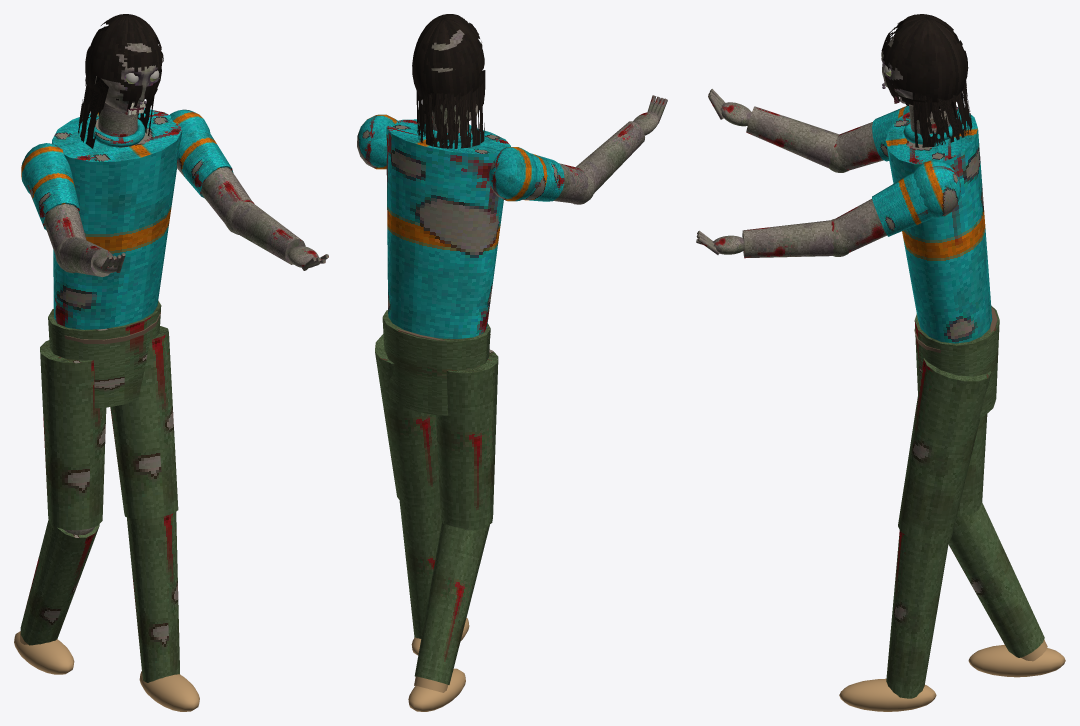
Rendered from Zombie_122.glb.
The picture shows the model from 3 angles, left to right: view 1: azimuth 30°, elevation 25°; view 2: azimuth 150°, elevation 25°; view 3: azimuth 270°, elevation 25°; orthographic projection. The views are drawn at different scales.
Parts seen in each view (by area): view 1: Zombie_122, object 43, object 10, object 42, object 16, object 3, object 53; view 2: Zombie_122, object 43, object 3, object 42, object 50, object 51, object 49, object 52; view 3: Zombie_122, object 43, object 10, object 3, object 42, object 44, object 4.
Part boxes in pixels (left/top/right/bottom): Zombie_122: left=14, top=103, right=250, bottom=711; object 43: left=85, top=18, right=161, bottom=108; object 10: left=231, top=201, right=305, bottom=264; object 42: left=89, top=14, right=163, bottom=72; object 16: left=95, top=43, right=159, bottom=114; object 3: left=59, top=236, right=113, bottom=277; object 53: left=81, top=77, right=108, bottom=148; Zombie_122: left=357, top=105, right=588, bottom=711; object 43: left=412, top=23, right=484, bottom=110; object 3: left=576, top=121, right=644, bottom=193; object 42: left=418, top=14, right=482, bottom=67; object 50: left=440, top=92, right=460, bottom=148; object 51: left=454, top=88, right=472, bottom=148; object 49: left=428, top=93, right=447, bottom=148; object 52: left=467, top=77, right=480, bottom=147; Zombie_122: left=835, top=105, right=1065, bottom=711; object 43: left=884, top=21, right=968, bottom=108; object 10: left=742, top=220, right=834, bottom=258; object 3: left=746, top=106, right=838, bottom=168; object 42: left=881, top=14, right=959, bottom=78; object 44: left=912, top=92, right=934, bottom=147; object 4: left=721, top=102, right=751, bottom=126.
Size of the model in its own units: 0.6735 by 2.02 by 0.9927.
16 materials, 6 textured.
